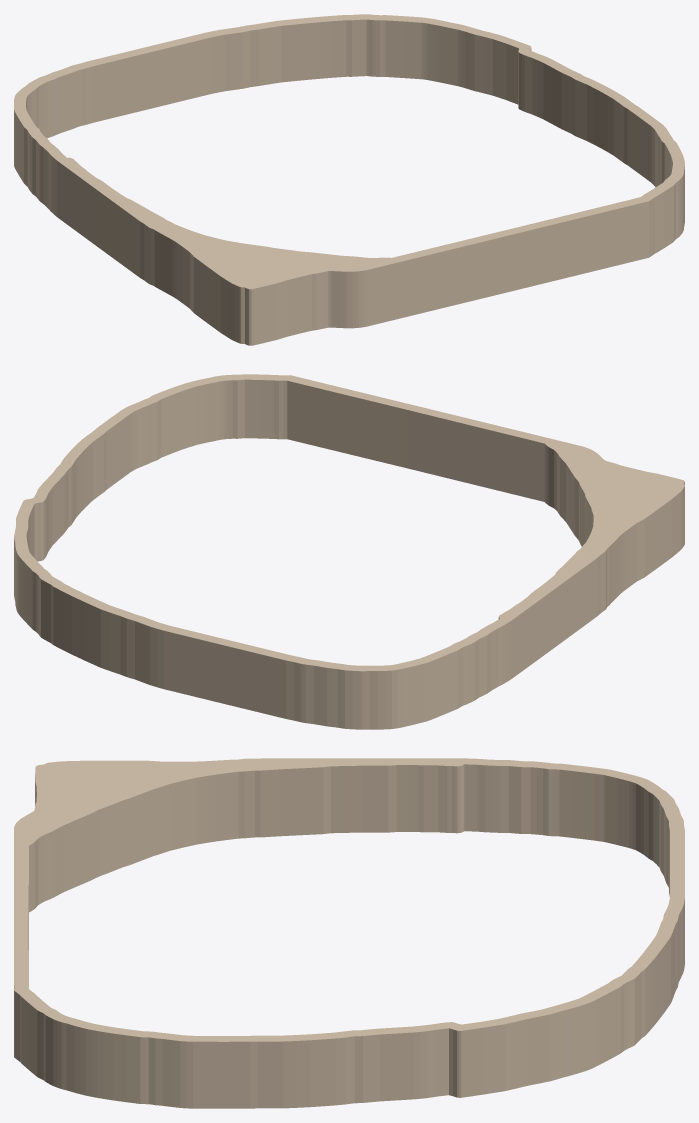
The model's file is wall.glb.
3 renders of one model, top to bottom at view 1: azimuth 30°, elevation 25°; view 2: azimuth 150°, elevation 25°; view 3: azimuth 270°, elevation 25°, orthographic. The views are drawn at different scales.
Parts seen in each view (by area): view 1: Mesh_Mesh_head_geo.001_lambert2SG.001; view 2: Mesh_Mesh_head_geo.001_lambert2SG.001; view 3: Mesh_Mesh_head_geo.001_lambert2SG.001.
Part boxes in pixels (<box>): Mesh_Mesh_head_geo.001_lambert2SG.001: <box>14,14,684,345</box>; Mesh_Mesh_head_geo.001_lambert2SG.001: <box>14,374,684,729</box>; Mesh_Mesh_head_geo.001_lambert2SG.001: <box>14,758,684,1108</box>.
Size of the model in its own units: 200 by 22 by 200.
